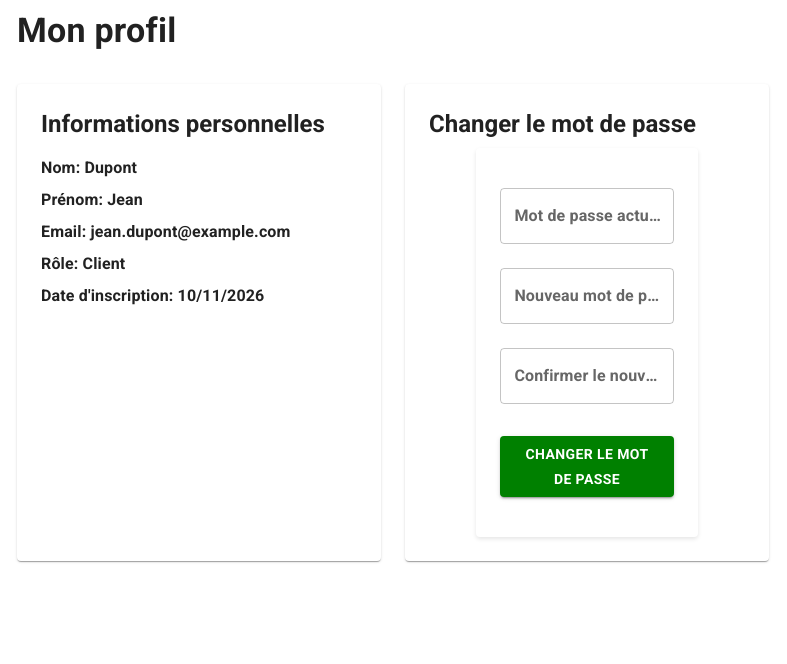
Test case: ProfilePage › shows error message when changePassword fails
Fill the form with valid data
Type "CurrentPassword123!" into the password field labelled "Mot de passe actuel *" at (587, 216), box [500, 188, 674, 244]
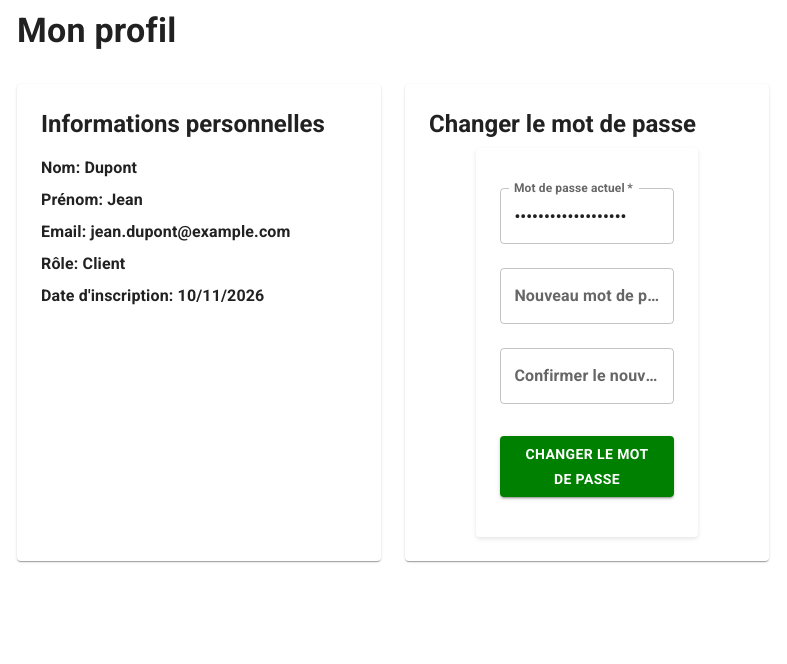
Type "NewPassword123!" into the password field labelled "Nouveau mot de passe *" at (587, 296), box [500, 268, 674, 324]
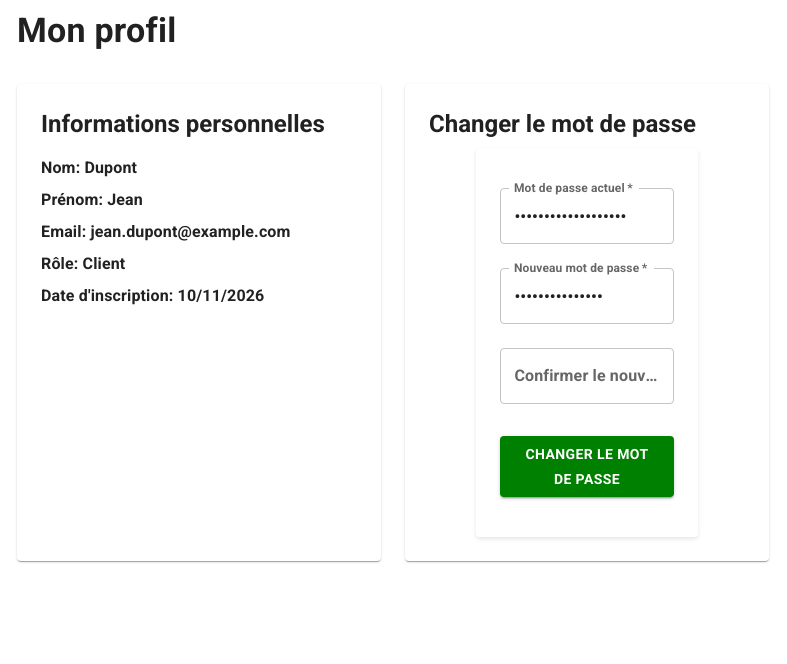
Type "NewPassword123!" into the password field labelled "Confirmer le nouveau mot de passe *" at (587, 376), box [500, 348, 674, 404]
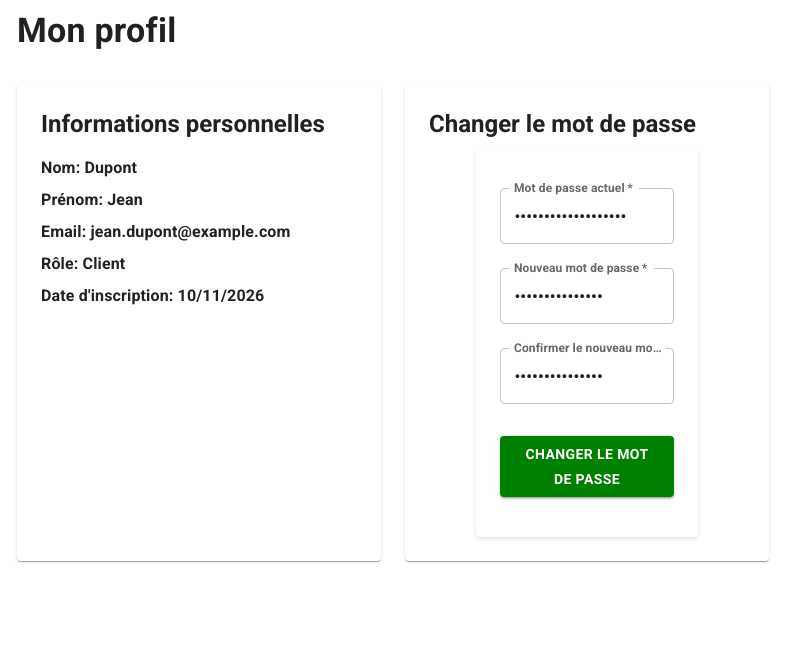
Submit the form
Click the button "Changer le mot de passe" at (587, 467), box [500, 436, 674, 497]
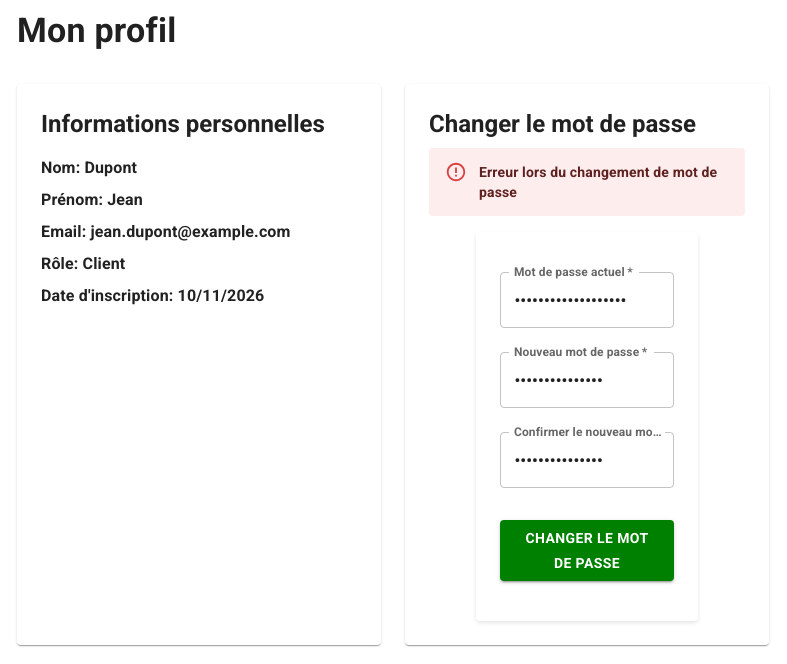
Result: the text "Erreur lors du changement de mot de passe" is shown at [479, 154, 729, 210]
